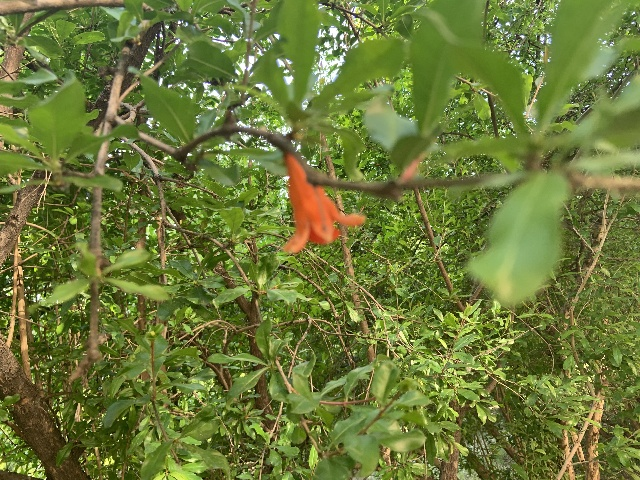flower: (282, 152, 366, 253)
